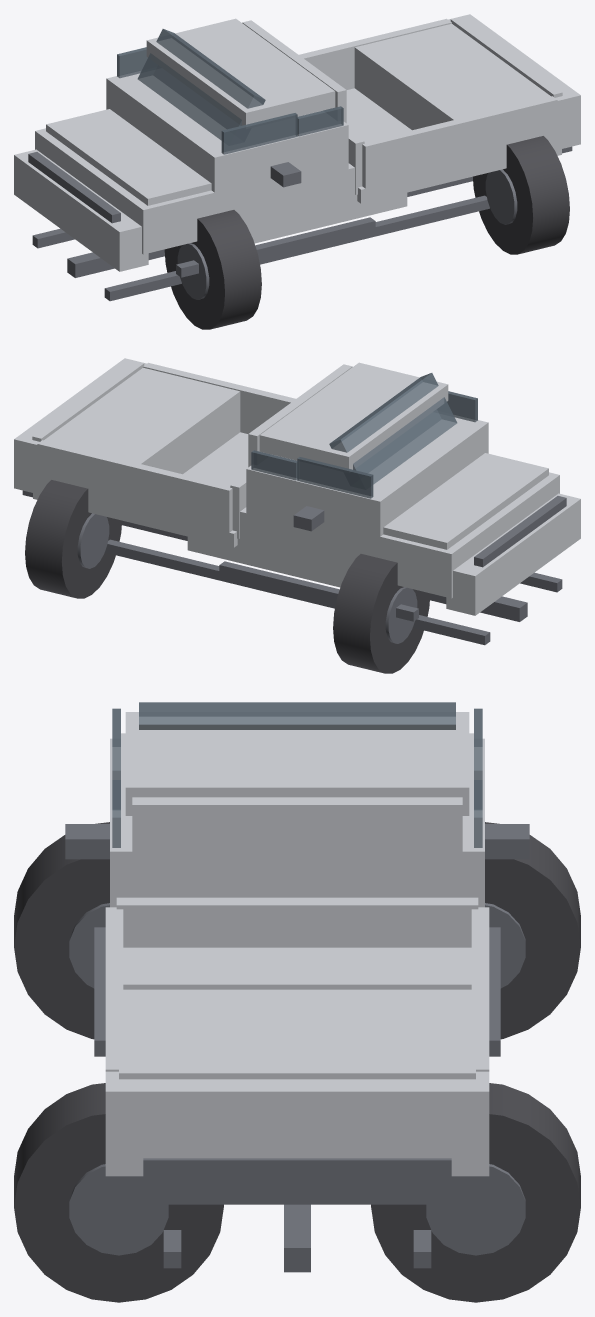
The model's file is mitsubishi-triton.glb.
3 views of the same model, one above another, from view 1: azimuth 30°, elevation 25°; view 2: azimuth 150°, elevation 25°; view 3: azimuth 270°, elevation 25° (orthographic). The views are drawn at different scales.
Parts seen in each view (by area): view 1: Vehicle; view 2: Vehicle; view 3: Vehicle.
Part boxes in pixels (x1=…): Vehicle: x1=14, y1=14, x2=580, y2=329; Vehicle: x1=14, y1=358, x2=580, y2=673; Vehicle: x1=14, y1=702, x2=580, y2=1302.
Size of the model in its own units: 4.13 by 1.8 by 2.54.
